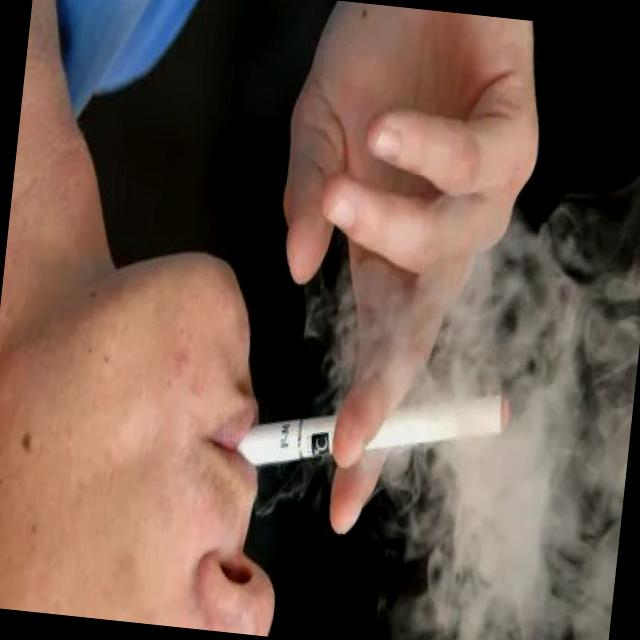smoke: (233, 358, 516, 496)
